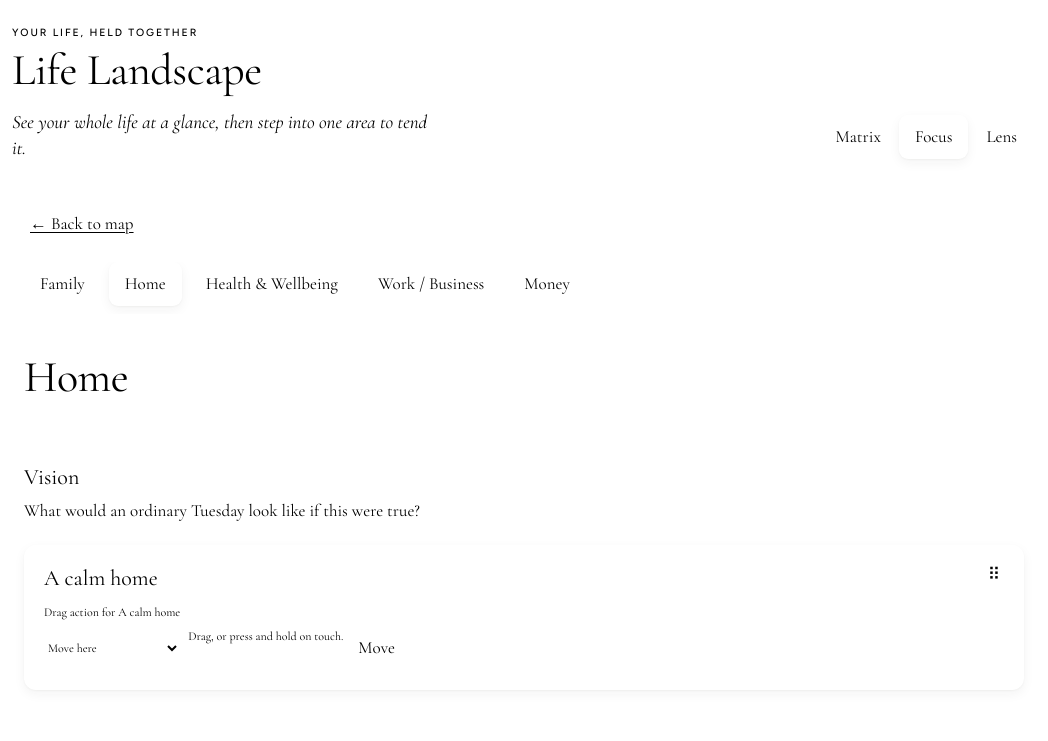
LandscapePage › offers explicit move and link alternatives with undo
Click the button with aria-label "Move A calm home" at {"x": 377, "y": 648}, box [351, 626, 402, 670]
(page scrolled)
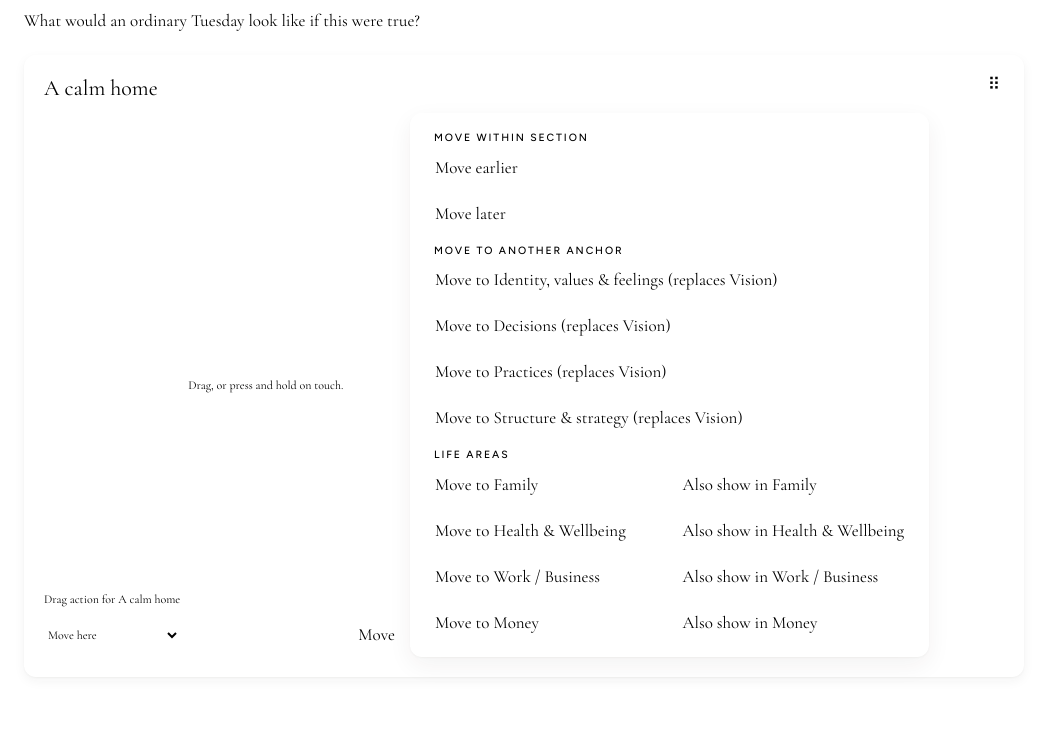
Click the menu item "Move to Practices (replaces Vision)" at {"x": 464, "y": 372}, box [422, 350, 917, 394]
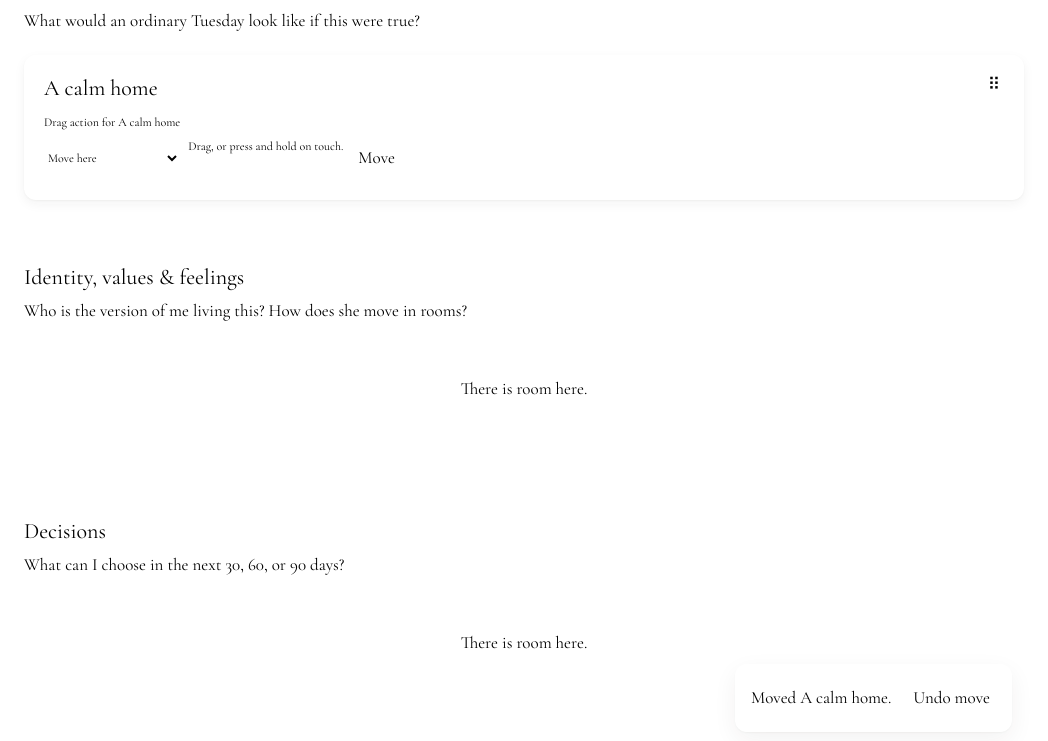
expect the button "Undo move" is shown: met, box [907, 676, 996, 720]
